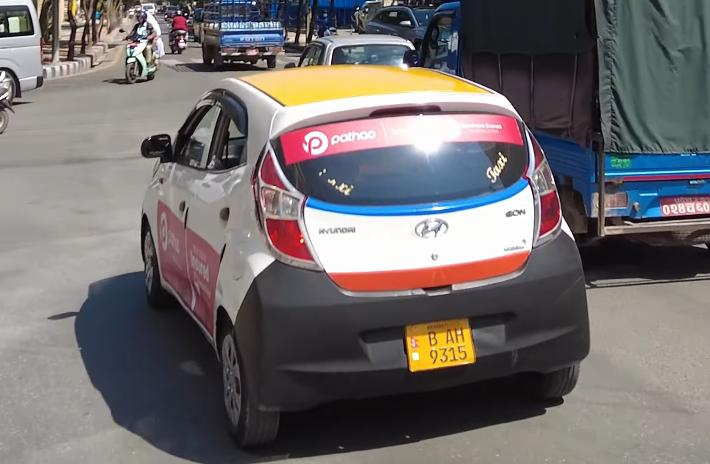micro_bus: (0, 0, 49, 107)
scooter: (117, 26, 164, 85)
taxi: (129, 57, 597, 449)
